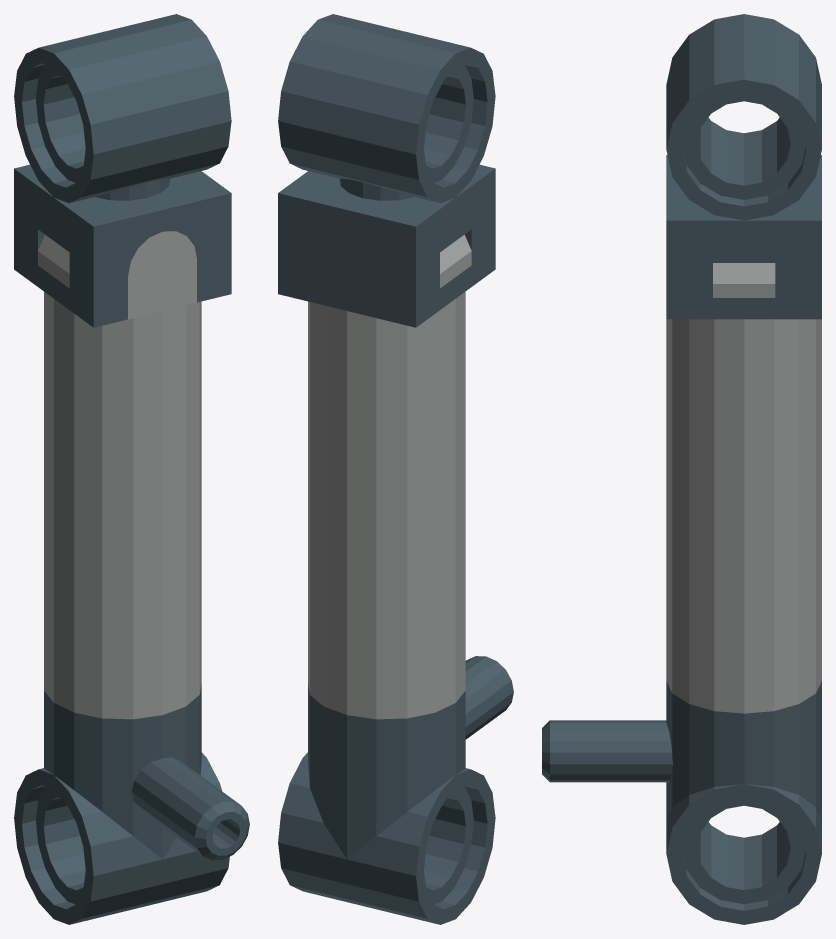
The picture shows the model from 3 angles, left to right: view 1: azimuth 30°, elevation 25°; view 2: azimuth 150°, elevation 25°; view 3: azimuth 270°, elevation 25°; orthographic projection. The views are drawn at different scales.
Visible parts, largest first — view 1: world; view 2: world; view 3: world.
Boxes of the visible parts, bbox=[...] form: world: bbox=[14, 14, 249, 924]; world: bbox=[278, 14, 513, 924]; world: bbox=[542, 14, 821, 924].
Size of the model in its own units: 0.008 by 0.048 by 0.0144.
